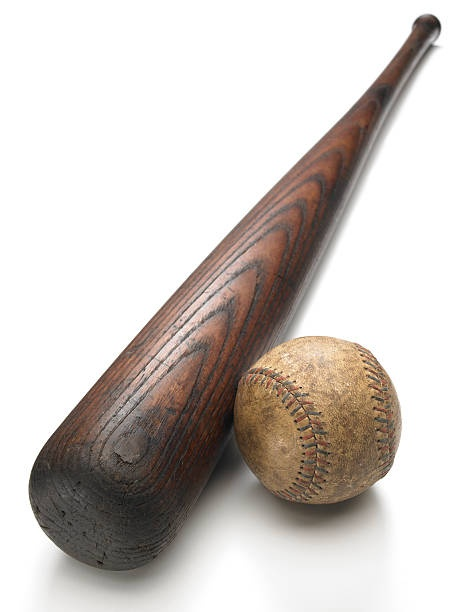bita: (43, 9, 432, 563)
